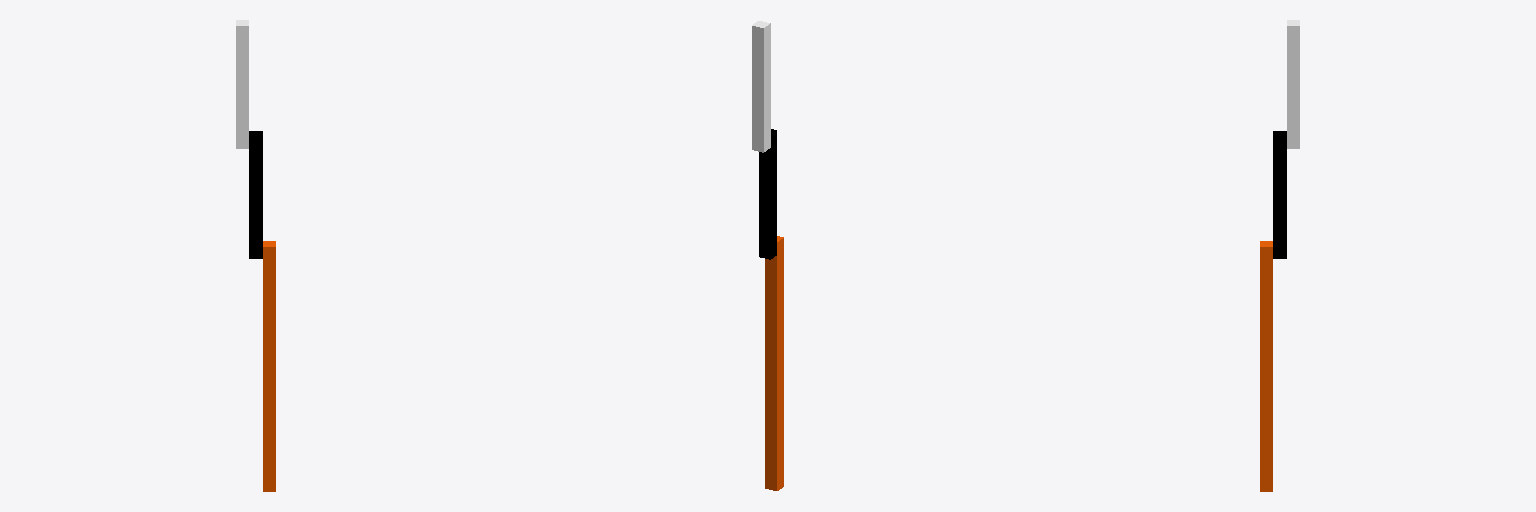
The robot description file, URDF, robot "rrbot":
<?xml version="1.0" ?>
<robot name="rrbot">

  <material name="RRBOT/black">
    <color rgba="0.0 0.0 0.0 1.0"/>
  </material>
  <material name="RRBOT/blue">
    <color rgba="0.0 0.0 0.8 1.0"/>
  </material>
  <material name="RRBOT/green">
    <color rgba="0.0 0.8 0.0 1.0"/>
  </material>
  <material name="RRBOT/grey">
    <color rgba="0.2 0.2 0.2 1.0"/>
  </material>
  <material name="RRBOT/silver">
    <color rgba="0.913725490196 0.913725490196 0.847058823529 1.0"/>
  </material>
  <material name="RRBOT/orange">
    <color rgba="1.0 0.423529411765 0.0392156862745 1.0"/>
  </material>
  <material name="RRBOT/brown">
    <color rgba="0.870588235294 0.811764705882 0.764705882353 1.0"/>
  </material>
  <material name="RRBOT/red">
    <color rgba="0.8 0.0 0.0 1.0"/>
  </material>
  <material name="RRBOT/white">
    <color rgba="1.0 1.0 1.0 1.0"/>
  </material>
  
  
  <!-- "world" link -->
  <link name="world"/>
  <gazebo reference="world">
    <static>true</static>
  </gazebo>
  
  
  <!--////////////////////////////////   link    ////////////////////////////////-->
    
  <link name="rrbot_link1">
    <collision>
      <origin rpy="0 0 0" xyz="0 0 1.0"/>
      <geometry>
        <box size="0.1 0.1 2"/>
      </geometry>
    </collision>
    <visual>
      <origin rpy="0 0 0" xyz="0 0 1.0"/>
      <geometry>
        <box size="0.1 0.1 2"/>
      </geometry>
      <material name="RRBOT/orange"/>
    </visual>
    <inertial>
      <origin rpy="0 0 0" xyz="0 0 1.0"/>
      <mass value="1"/>
      <inertia ixx="1.0" ixy="0.0" ixz="0.0" iyy="1.0" iyz="0.0" izz="1.0"/>
    </inertial>
  </link>

  <link name="rrbot_link2">
    <collision>
      <origin rpy="0 0 0" xyz="0 0 0.45"/>
      <geometry>
        <box size="0.1 0.1 1"/>
      </geometry>
    </collision>
    <visual>
      <origin rpy="0 0 0" xyz="0 0 0.45"/>
      <geometry>
        <box size="0.1 0.1 1"/>
      </geometry>
      <material name="RRBOT/black"/>
    </visual>
    <inertial>
      <origin rpy="0 0 0" xyz="0 0 0.45"/>
      <mass value="1"/>
      <inertia ixx="1.0" ixy="0.0" ixz="0.0" iyy="1.0" iyz="0.0" izz="1.0"/>
    </inertial>
  </link>

  <link name="rrbot_link3">
    <collision>
      <origin rpy="0 0 0" xyz="0 0 0.45"/>
      <geometry>
        <box size="0.1 0.1 1"/>
      </geometry>
    </collision>
    <visual>
      <origin rpy="0 0 0" xyz="0 0 0.45"/>
      <geometry>
        <box size="0.1 0.1 1"/>
      </geometry>
      <material name="RRBOT/white"/>
    </visual>
    <inertial>
      <origin rpy="0 0 0" xyz="0 0 0.45"/>
      <mass value="1"/>
      <inertia ixx="1.0" ixy="0.0" ixz="0.0" iyy="1.0" iyz="0.0" izz="1.0"/>
    </inertial>
  </link>

  <gazebo reference="rrbot_link1">
    <material>Gazebo/Orange</material>
  </gazebo>
  
  <gazebo reference="rrbot_link2">
    <mu1>0.2</mu1>
    <mu2>0.2</mu2>
    <material>Gazebo/Black</material>
  </gazebo>
  
  <gazebo reference="rrbot_link3">
    <mu1>0.2</mu1>
    <mu2>0.2</mu2>
    <material>Gazebo/White</material>
  </gazebo>


  <!--////////////////////////////////   joint    ////////////////////////////////-->
  
  <joint name="rrbot_fixed" type="fixed">
    <origin rpy="0 0 0" xyz="0 0 0"/>
    <parent link="world"/>
    <child link="rrbot_link1"/>
  </joint>
  
  <joint name="rrbot_joint1" type="continuous">
    <parent link="rrbot_link1"/>
    <child link="rrbot_link2"/>
    <origin rpy="0 0 0" xyz="0 0.1 1.95"/>
    <axis xyz="0 1 0"/>
    <dynamics damping="0.7"/>
  </joint>

  <joint name="rrbot_joint2" type="continuous">
    <parent link="rrbot_link2"/>
    <child link="rrbot_link3"/>
    <origin rpy="0 0 0" xyz="0 0.1 0.9"/>
    <axis xyz="0 1 0"/>
    <dynamics damping="0.7"/>
  </joint>
  

  <!--/////////////////////////////   transmission    /////////////////////////////-->
<!--
  <transmission name="rrbot_tran1">
    <type>transmission_interface/SimpleTransmission</type>
    <joint name="rrbot_joint1">
      <hardwareInterface>PositionJointInterface</hardwareInterface>
    </joint>
    <actuator name="rrbot_motor1">
      <mechanicalReduction>1</mechanicalReduction>
    </actuator>
  </transmission>
  
  <transmission name="rrbot_tran2">
    <type>transmission_interface/SimpleTransmission</type>
    <joint name="rrbot_joint2">
      <hardwareInterface>PositionJointInterface</hardwareInterface>
    </joint>
    <actuator name="rrbot_motor2">
      <mechanicalReduction>1</mechanicalReduction>
    </actuator>
  </transmission>
-->

  <!--////////////////////////////////   plugin    ////////////////////////////////-->
  
  <!-- <gazebo>
    <plugin name="rrbot_plugin" filename="librrbot_plugin.so">
    </plugin>
  </gazebo>
   -->
</robot>

--- Facts derived from the render (not from the file) ---
3 views of the same robot in one strip: view 1: azimuth 90°, elevation 25°; view 2: azimuth 150°, elevation 25°; view 3: azimuth 270°, elevation 25° (orthographic).
Robot: rrbot — 4 links, 3 joints (2 continuous, 1 fixed); root link world; default pose: all joints at 0.
Visible links, largest first — view 1: rrbot_link1, rrbot_link2, rrbot_link3; view 2: rrbot_link1, rrbot_link3, rrbot_link2; view 3: rrbot_link1, rrbot_link2, rrbot_link3.
Link boxes in pixels (x1,y1,x2,y2): rrbot_link1: (263, 241, 275, 491); rrbot_link2: (249, 131, 262, 258); rrbot_link3: (236, 20, 248, 148); rrbot_link1: (765, 236, 783, 490); rrbot_link3: (752, 21, 770, 152); rrbot_link2: (759, 129, 776, 259); rrbot_link1: (1260, 241, 1272, 491); rrbot_link2: (1273, 131, 1286, 258); rrbot_link3: (1287, 20, 1299, 148).
Bounding box of the posed robot: 0.1 × 0.3 × 3.8 m (x, y, z).
Geometry: primitives only (box / cylinder / sphere), no mesh files.
